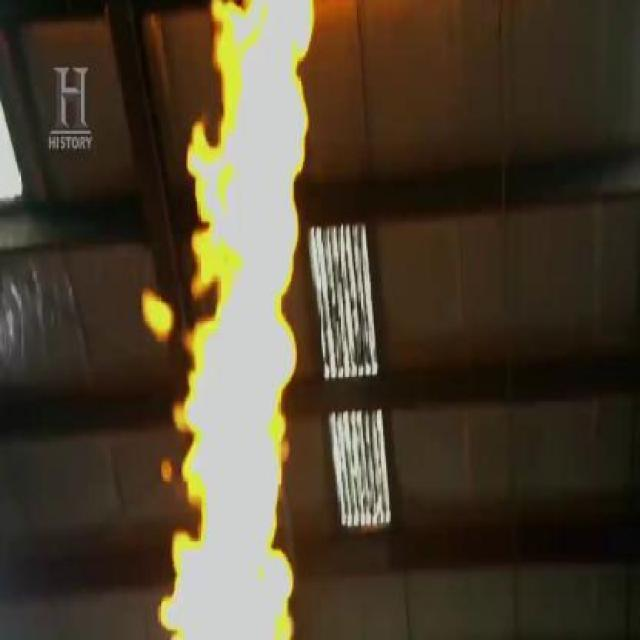Fire: (153, 0, 314, 638), (142, 294, 174, 340)
